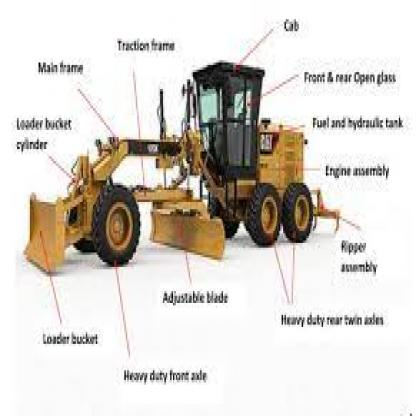bull_dozer/loader/grader: (19, 58, 350, 296)
